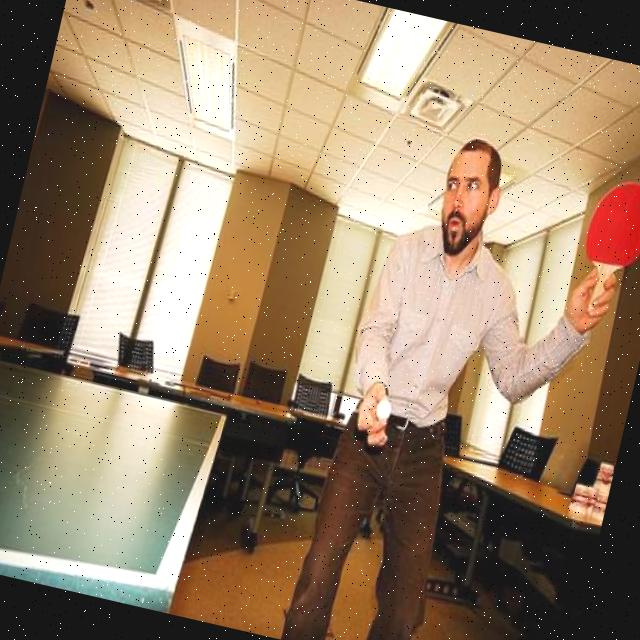ping-pong-ball: (372, 396, 393, 422)
